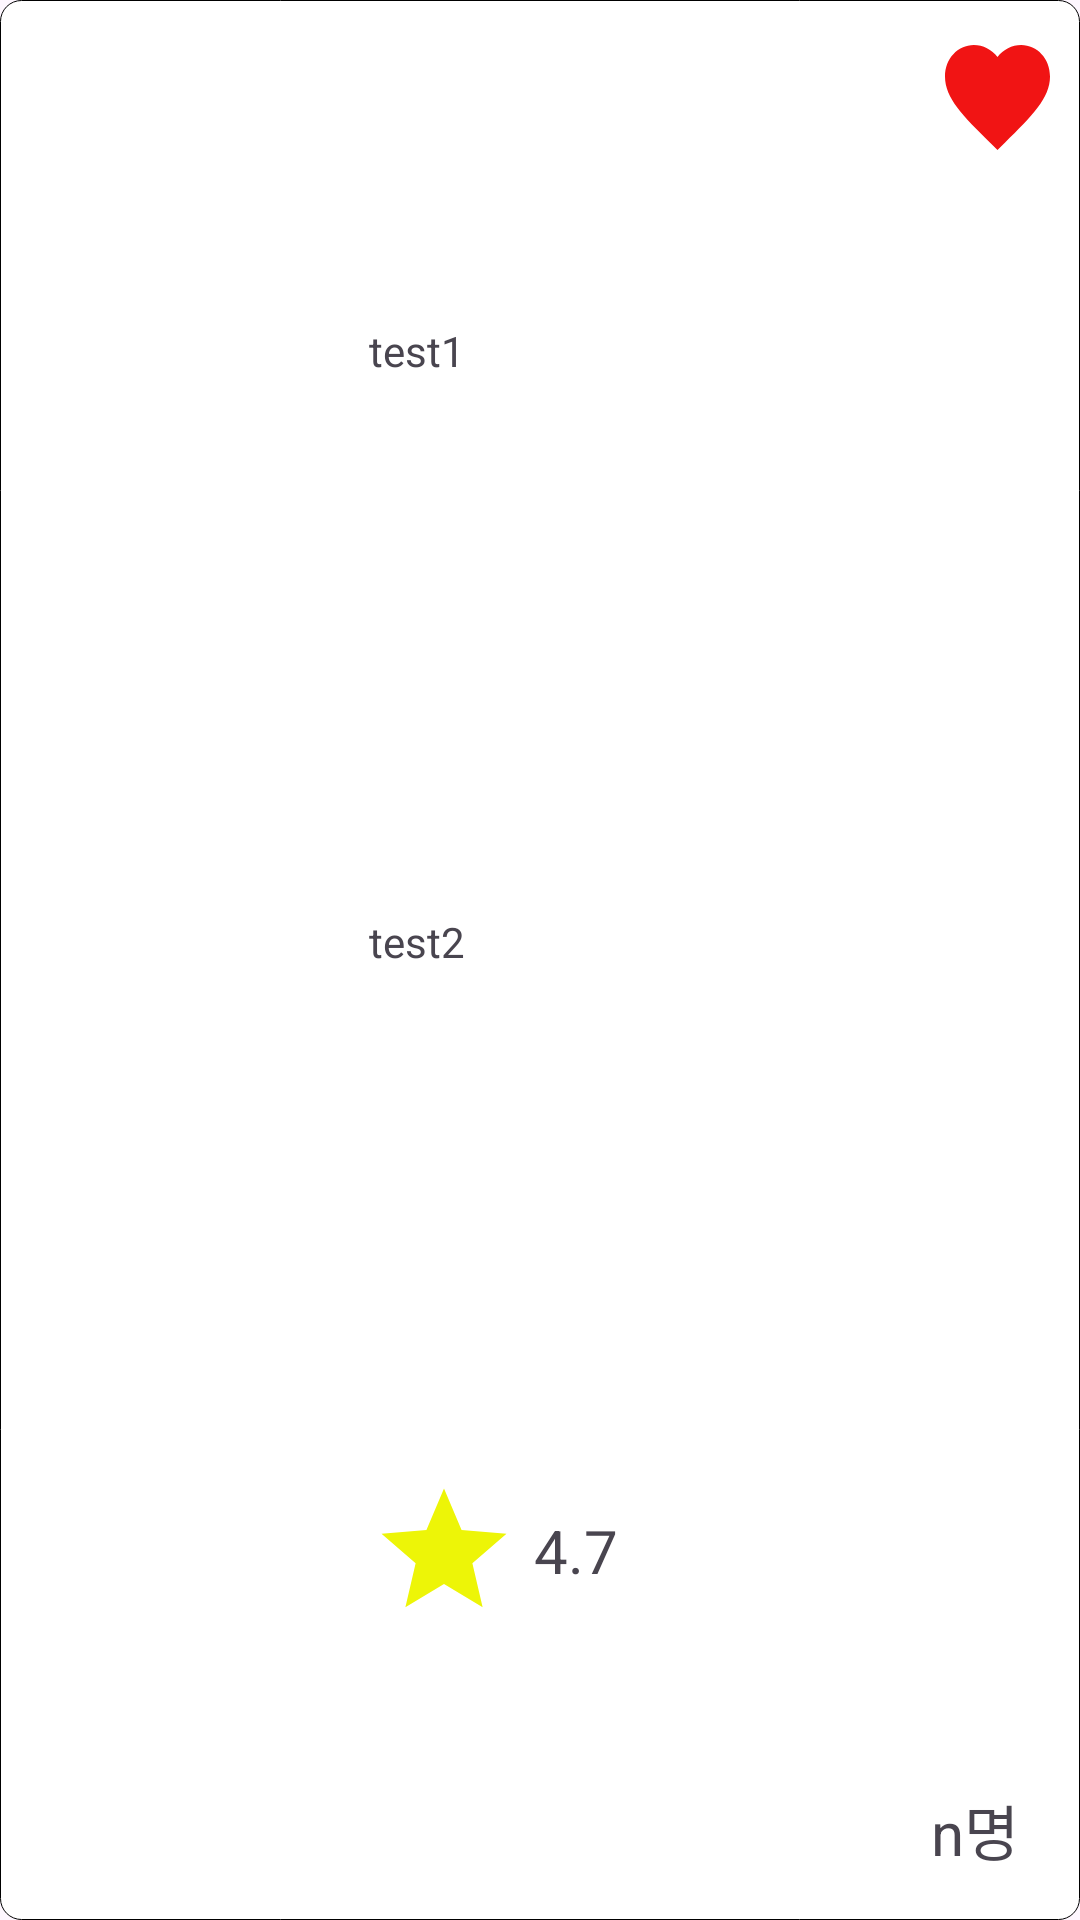

Where icons sit on this 1080 × 1920 app screen, as (x1, y1, x2, y2):
heart: (945, 45, 1050, 150)
rating star: (382, 1489, 506, 1607)
